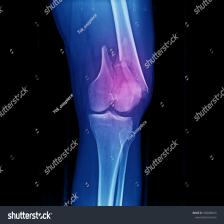closed-simple-fracture: (52, 1, 161, 207)
